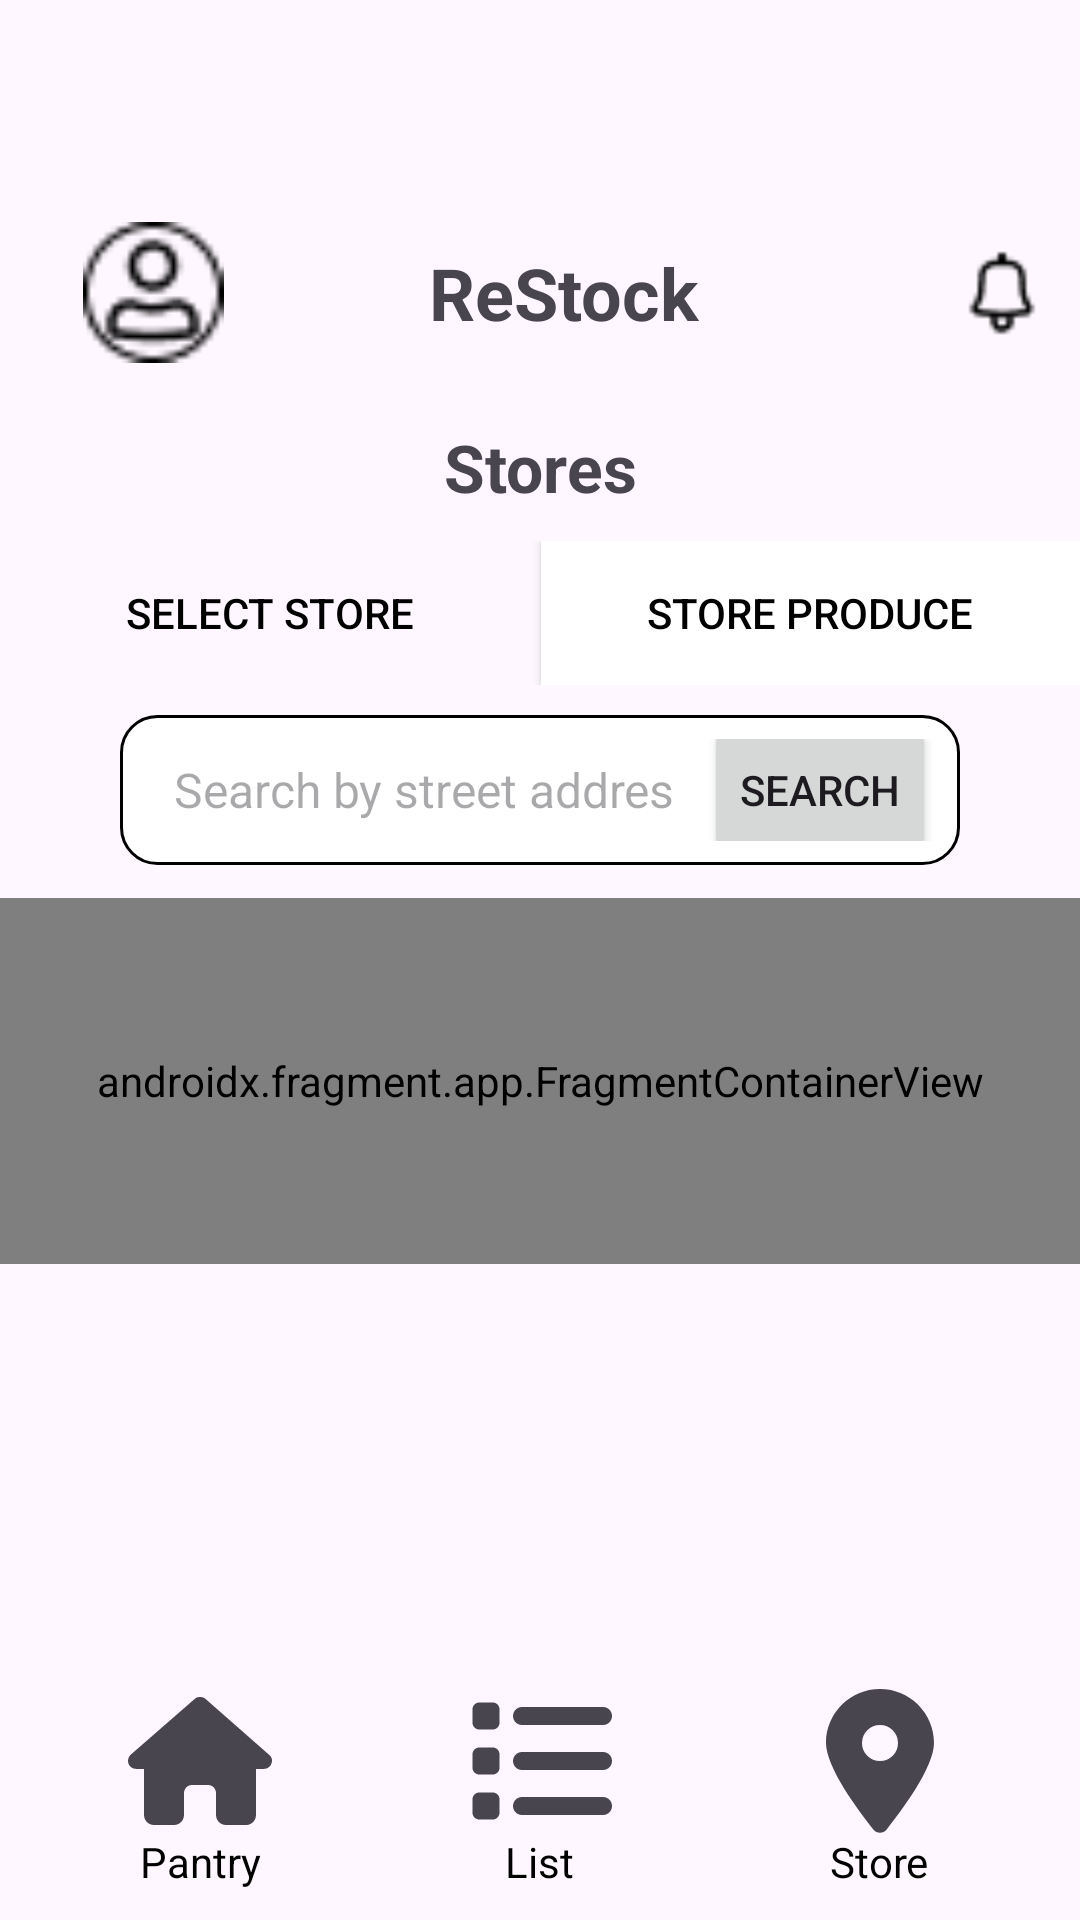

Screen size 1080w x 1920h. Icon name, then its box in pixels as BBox(x1, y1, x2, y2):
Notifications: BBox(969, 251, 1035, 334)
Profile Icon: BBox(83, 222, 224, 363)
